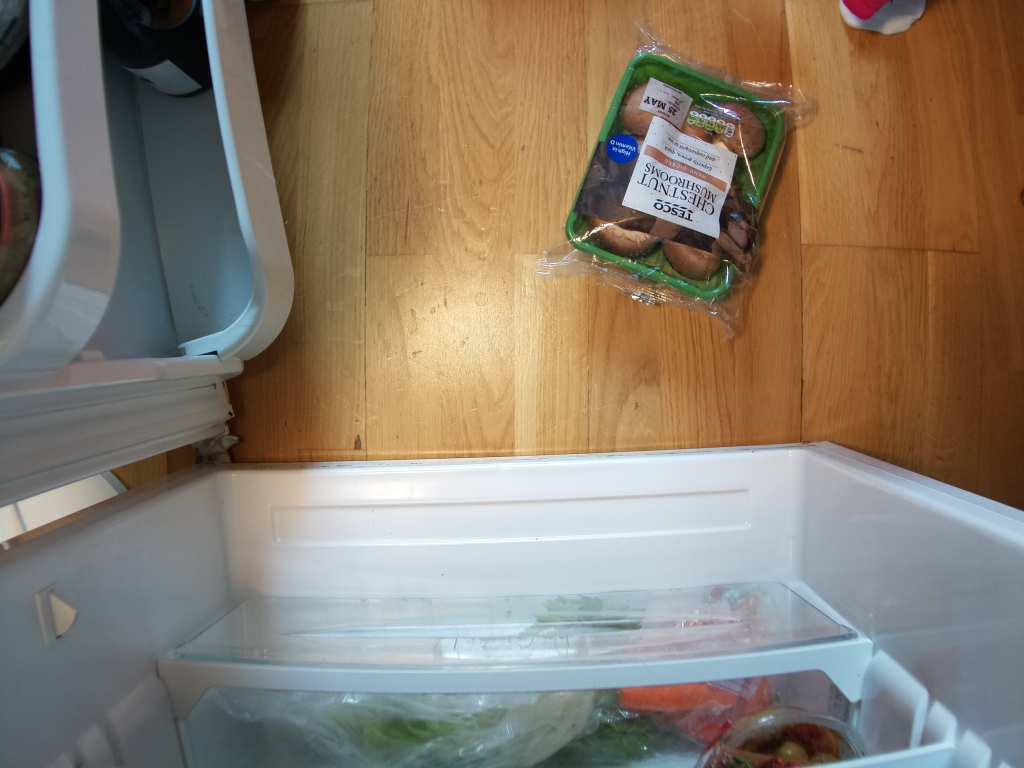mushrooms: (559, 46, 801, 307)
